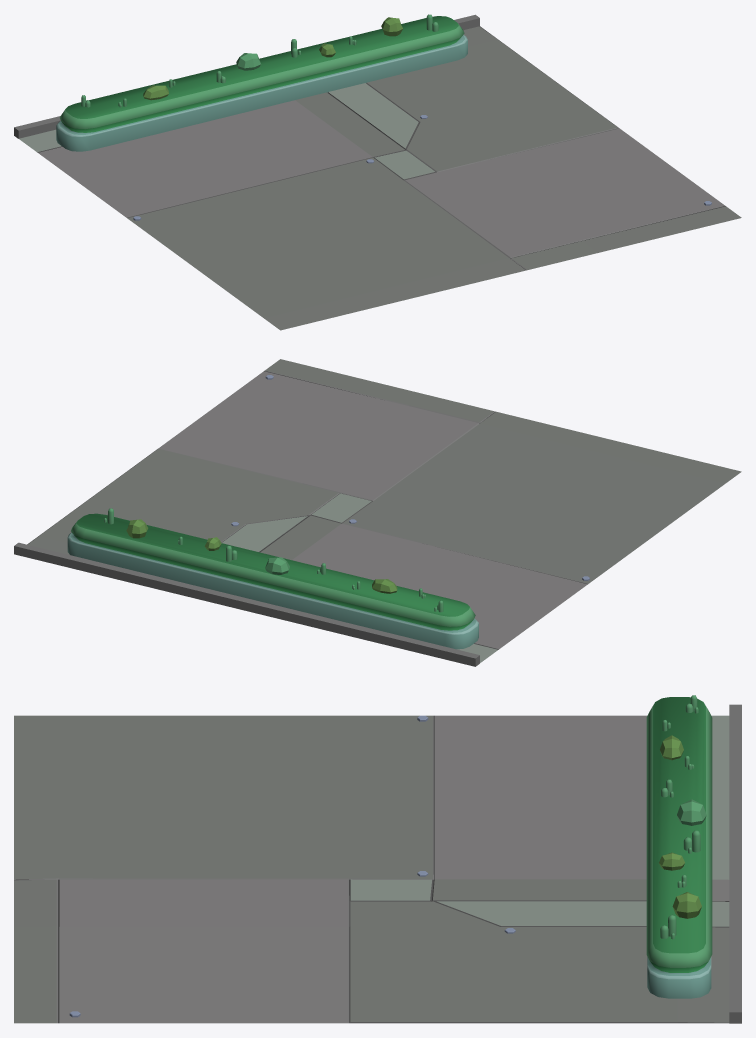
The model's file is OpenRoad_A.gltf.
3 views of the same model, one above another, from view 1: azimuth 30°, elevation 25°; view 2: azimuth 150°, elevation 25°; view 3: azimuth 270°, elevation 25° (orthographic). The views are drawn at different scales.
Visible parts, largest first — view 1: Scifi_Panel_04_Plaza014_group4.011_Scifi_Panel_04_Plaza014_.; view 2: Scifi_Panel_04_Plaza014_group4.011_Scifi_Panel_04_Plaza014_.; view 3: Scifi_Panel_04_Plaza014_group4.011_Scifi_Panel_04_Plaza014_..
Part boxes in pixels (left/top/right/bottom): Scifi_Panel_04_Plaza014_group4.011_Scifi_Panel_04_Plaza014_.: left=14, top=14, right=741, bottom=330; Scifi_Panel_04_Plaza014_group4.011_Scifi_Panel_04_Plaza014_.: left=14, top=359, right=741, bottom=666; Scifi_Panel_04_Plaza014_group4.011_Scifi_Panel_04_Plaza014_.: left=14, top=695, right=741, bottom=1023.
Size of what is drawn, in the model's own units: 10 by 0.9439 by 10.
Materials: 1 (1 with a texture image).
